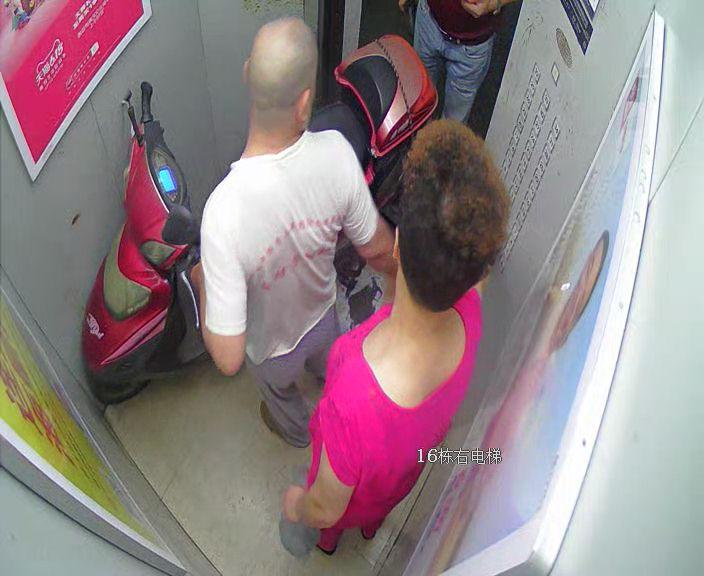Electric-bicycle: (79, 31, 435, 400)
